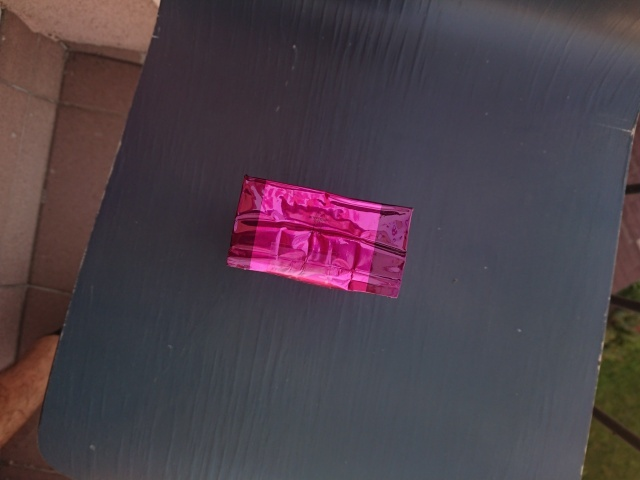Barcaffe Classic Original 225g: (223, 171, 417, 301)
